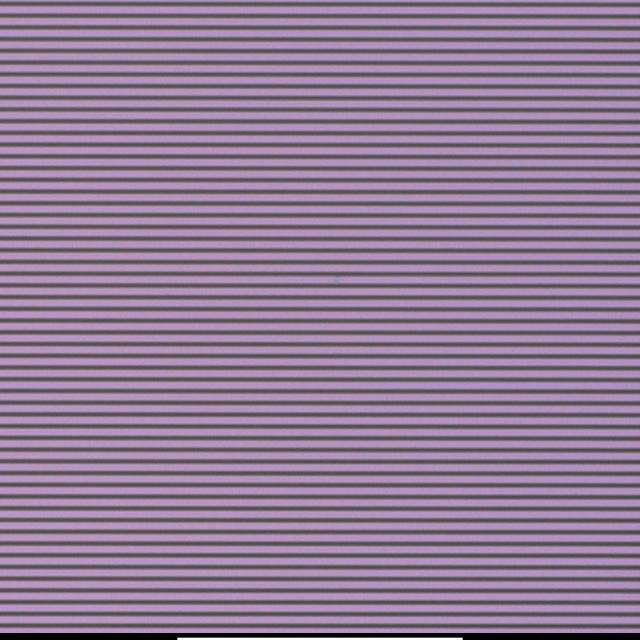nonvisual: (325, 266, 348, 293)
